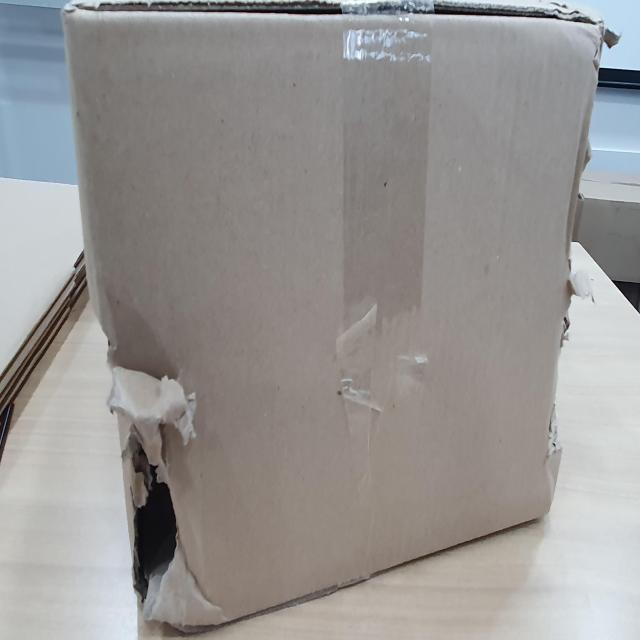damaged: (108, 385, 187, 629)
